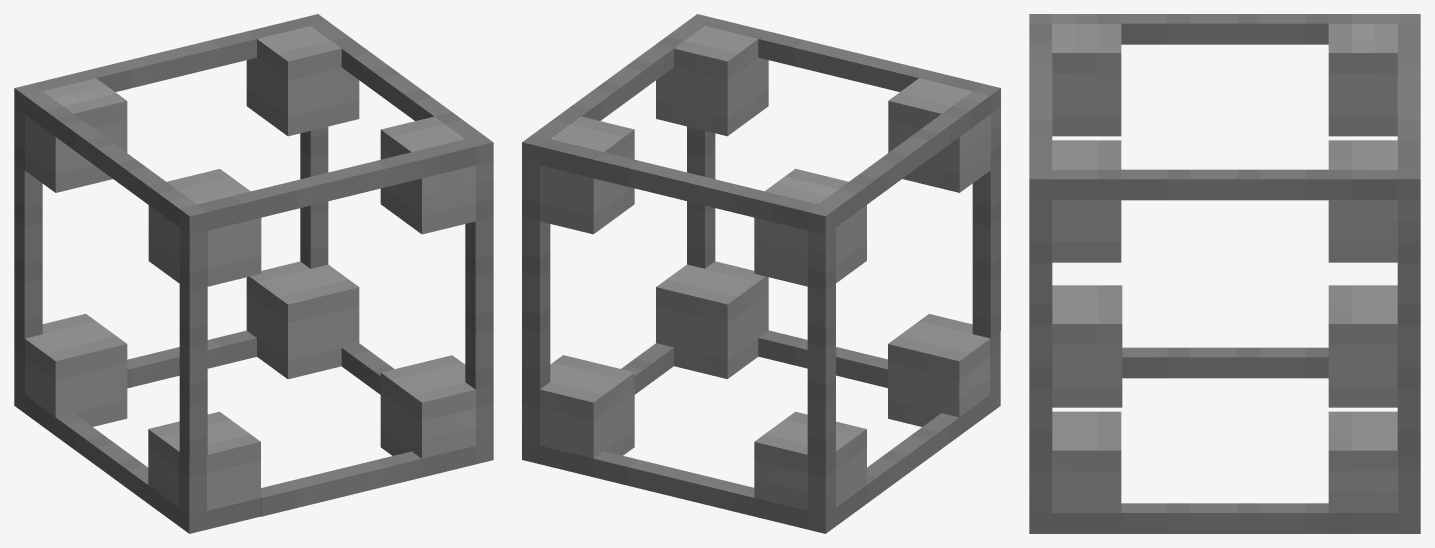
Rendered from heat_frame.obj.
The picture shows the model from 3 angles, left to right: view 1: azimuth 30°, elevation 25°; view 2: azimuth 150°, elevation 25°; view 3: azimuth 270°, elevation 25°; orthographic projection. The views are drawn at different scales.
Bounding box in the file's own units: 1.06 × 1.06 × 1.06.
